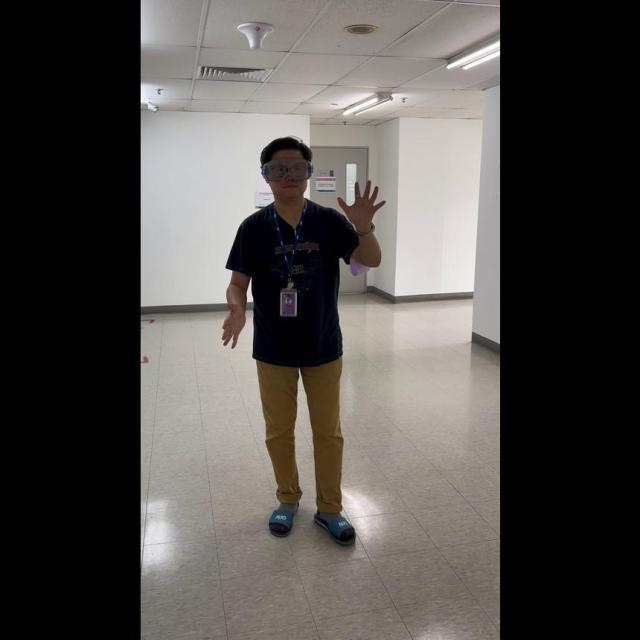bare_hand: (335, 176, 385, 230), (218, 289, 247, 349)
